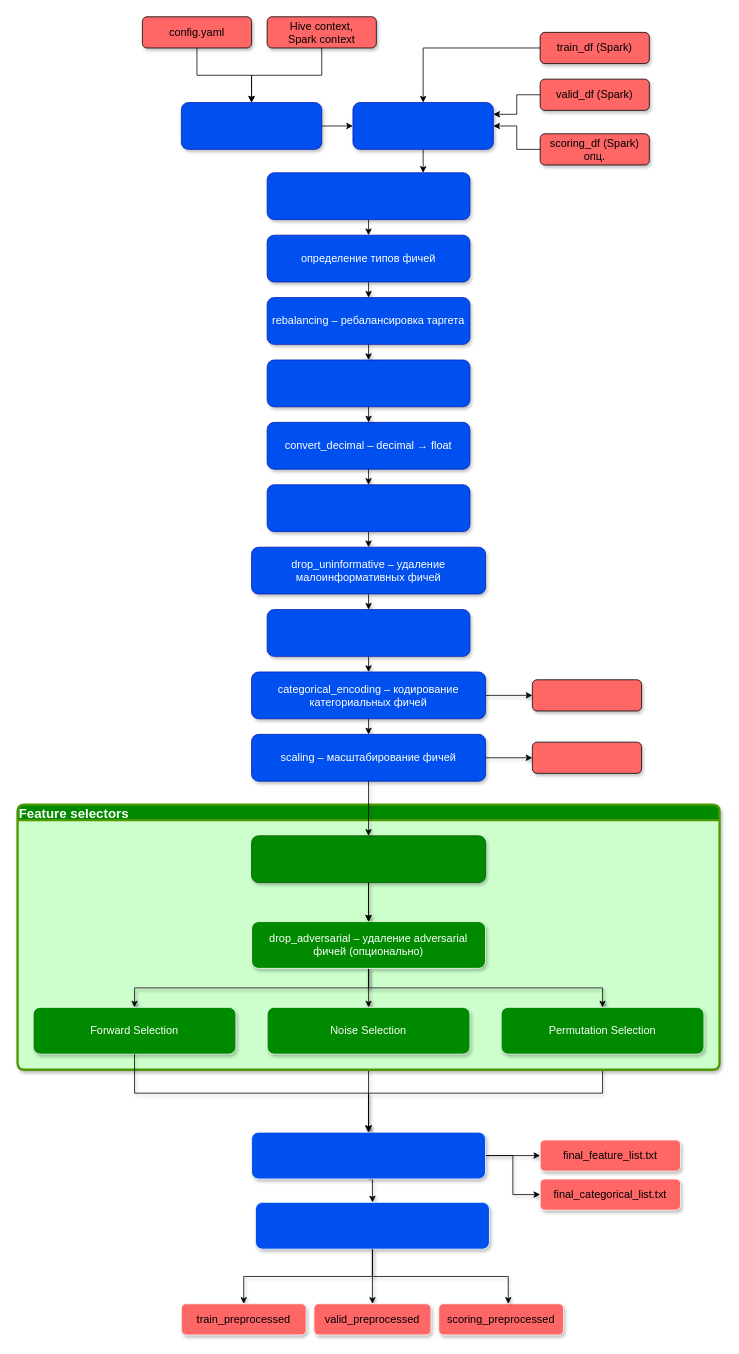
This 739x1354 diagram has some shape labels left out. Each missing label, with the centre of its shape:
".run_preprocessing()" belongs at (423,127).
"deduplicate – удаление дубликатов" belongs at (369,634).
"drop_correlated – удаление коррелирующих фичей (опционально)" belongs at (369,860).
"drop_forced_cols – удаление фичей по списку" belongs at (369,384).
"encoder.pkl" belongs at (587,696).
"fill_missing – заполнение пропусков" belongs at (369,509).
"PreprocessingPipeline()" belongs at (251,127).
"sampling – сэмплирование данных" belongs at (369,197).
"save_artifacts_info – сохранение артефактов" belongs at (369,1156).
"save_results – сохранение выборок" belongs at (373,1226).
"scaler.pkl" belongs at (587,758).
